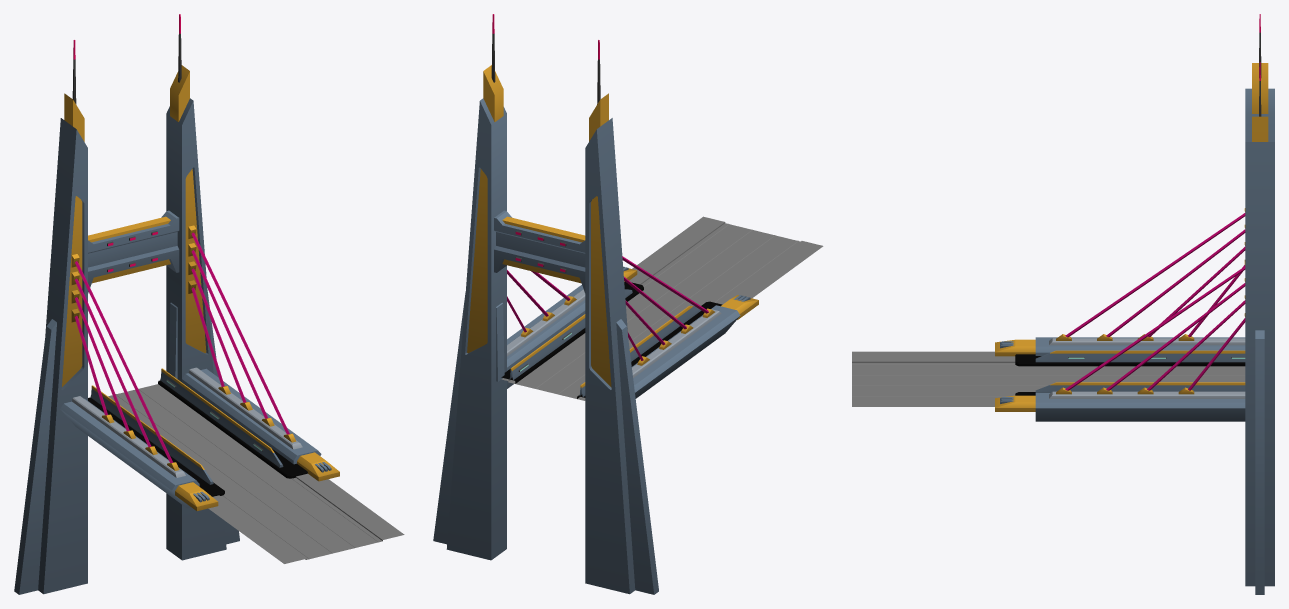
The model's file is Ciudad_Tramo_Puente.FBX.
3 renders of one model, left to right at view 1: azimuth 30°, elevation 25°; view 2: azimuth 150°, elevation 25°; view 3: azimuth 270°, elevation 25°, orthographic. The views are drawn at different scales.
Visible parts, largest first — view 1: Ciudad_Entrada_Puente, Ciudad_Tramo_Puente; view 2: Ciudad_Entrada_Puente, Ciudad_Tramo_Puente; view 3: Ciudad_Entrada_Puente, Ciudad_Tramo_Puente.
Part boxes in pixels (x1,y1,x2,y2): Ciudad_Entrada_Puente: [14, 14, 339, 594]; Ciudad_Tramo_Puente: [108, 384, 404, 563]; Ciudad_Entrada_Puente: [433, 14, 758, 594]; Ciudad_Tramo_Puente: [501, 216, 823, 400]; Ciudad_Entrada_Puente: [995, 14, 1274, 594]; Ciudad_Tramo_Puente: [852, 351, 1245, 406].
Size of the model in its own units: 2936 by 5181 by 6841.
